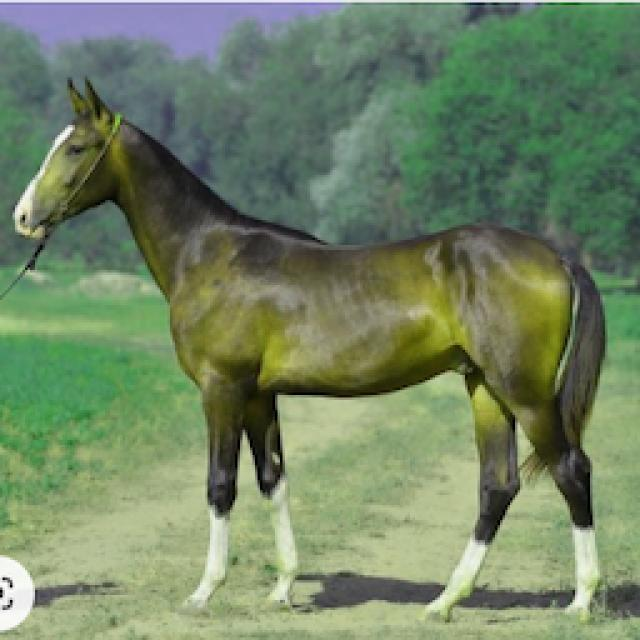Horse: (8, 72, 618, 628)
